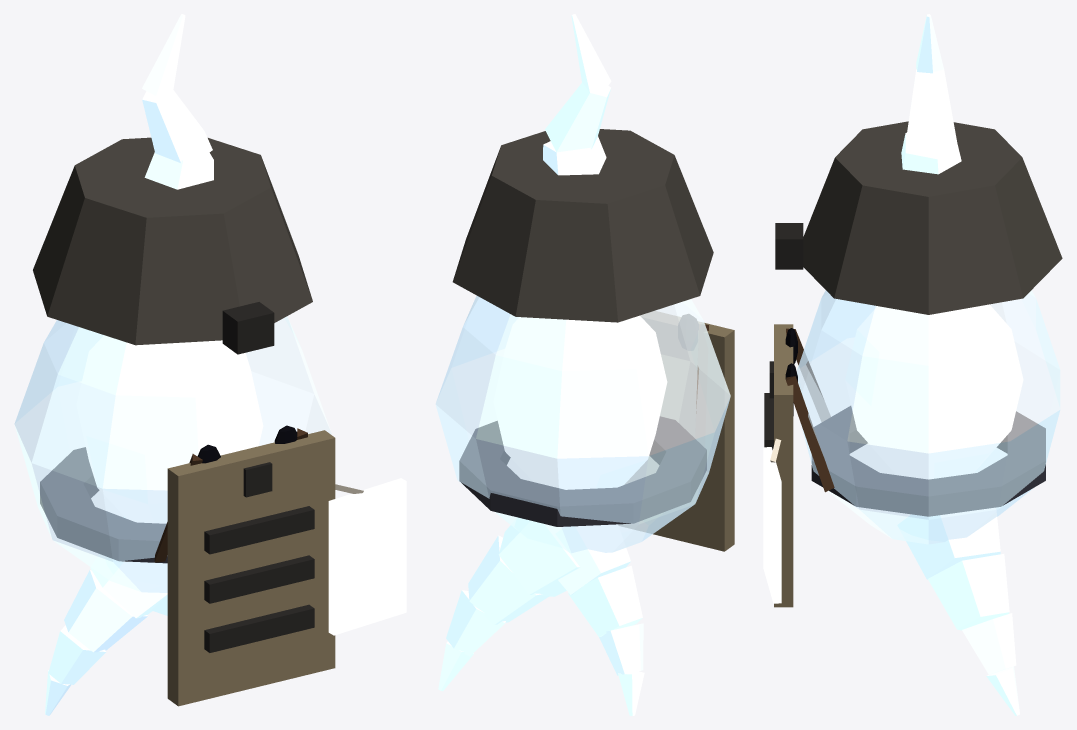
The model's file is soul_fresh_number_named.glb.
3 renders of one model, left to right at view 1: azimuth 30°, elevation 25°; view 2: azimuth 150°, elevation 25°; view 3: azimuth 270°, elevation 25°, orthographic. The views are drawn at different scales.
Visible parts, largest first — view 1: soul_fresh_number_named; view 2: soul_fresh_number_named; view 3: soul_fresh_number_named.
Boxes of the visible parts, <box> form: soul_fresh_number_named: <box>14,14,406,715</box>; soul_fresh_number_named: <box>435,14,734,715</box>; soul_fresh_number_named: <box>763,14,1062,715</box>.
Size of the model in its own units: 0.5554 by 1.3 by 0.5364.
